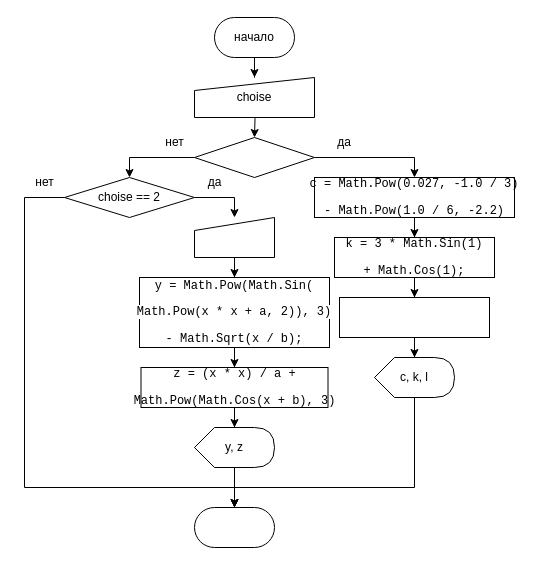
The diagram is 536 pixels wide and 565 high, and some of its shapes have lost their labels. The shapes that lost their labels are listed below. From the top down, each one's centre as x and y in pixels, then its label:
At (x=254, y=157): "choise == 1".
At (x=234, y=237): "x, a, b".
At (x=414, y=317): "l = Math . Log ( Math . Abs (cMinus2k));".
At (x=234, y=527): "конец".
